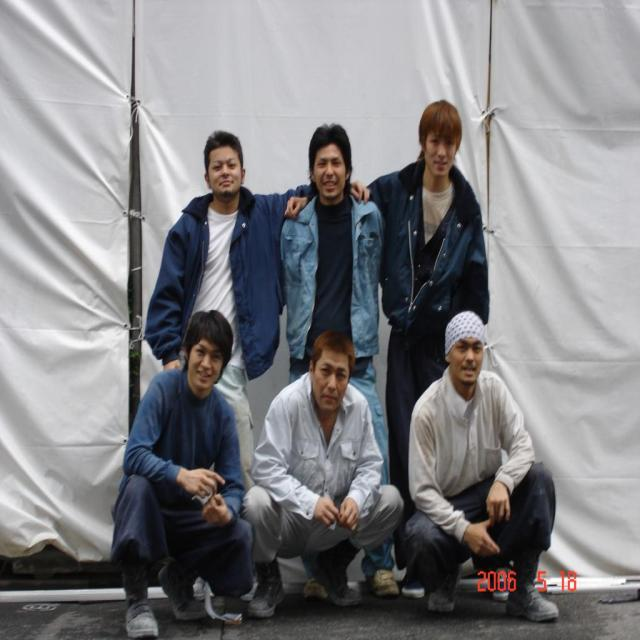Face: (189, 324, 232, 407), (306, 140, 355, 197), (205, 139, 251, 198), (422, 124, 463, 186), (313, 351, 355, 411), (451, 329, 487, 383)
